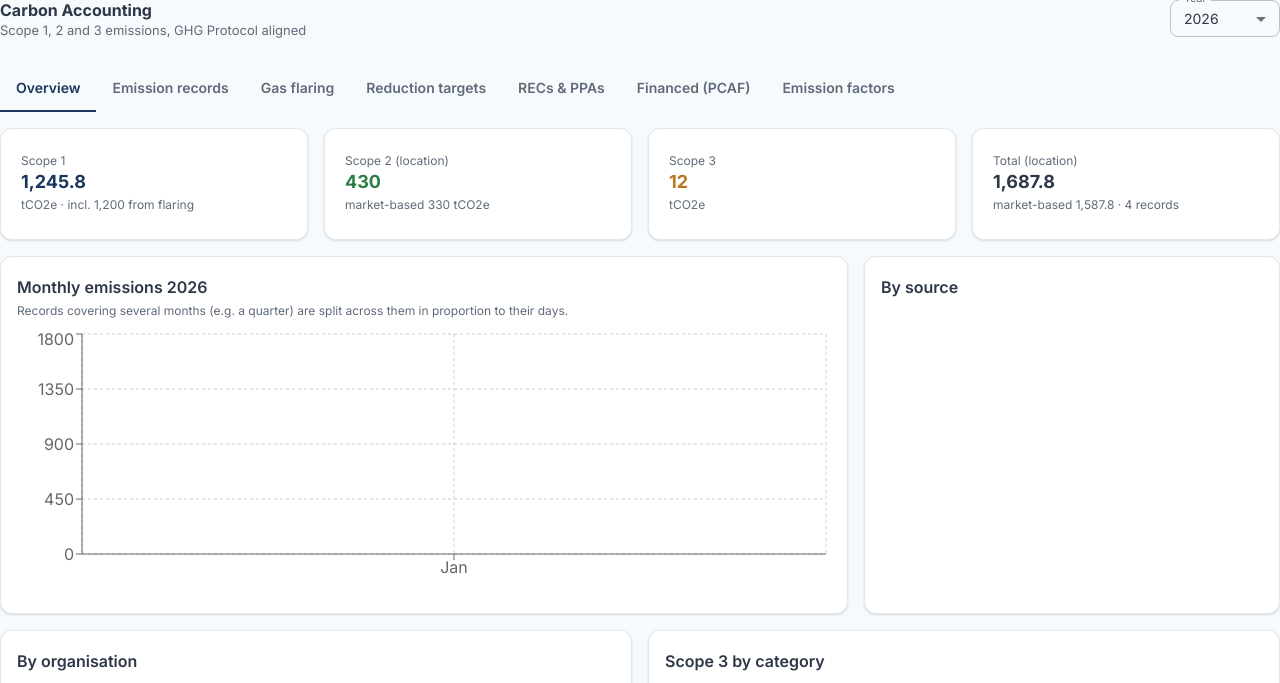
Test case: CarbonPage overview and records › lists the year's records; only calculator records can be edited, Data Hub records follow their data point
The image size is (1280, 683).
Click the tab "Emission records".
click(171, 88)  # box left=96, top=64, right=245, bottom=112
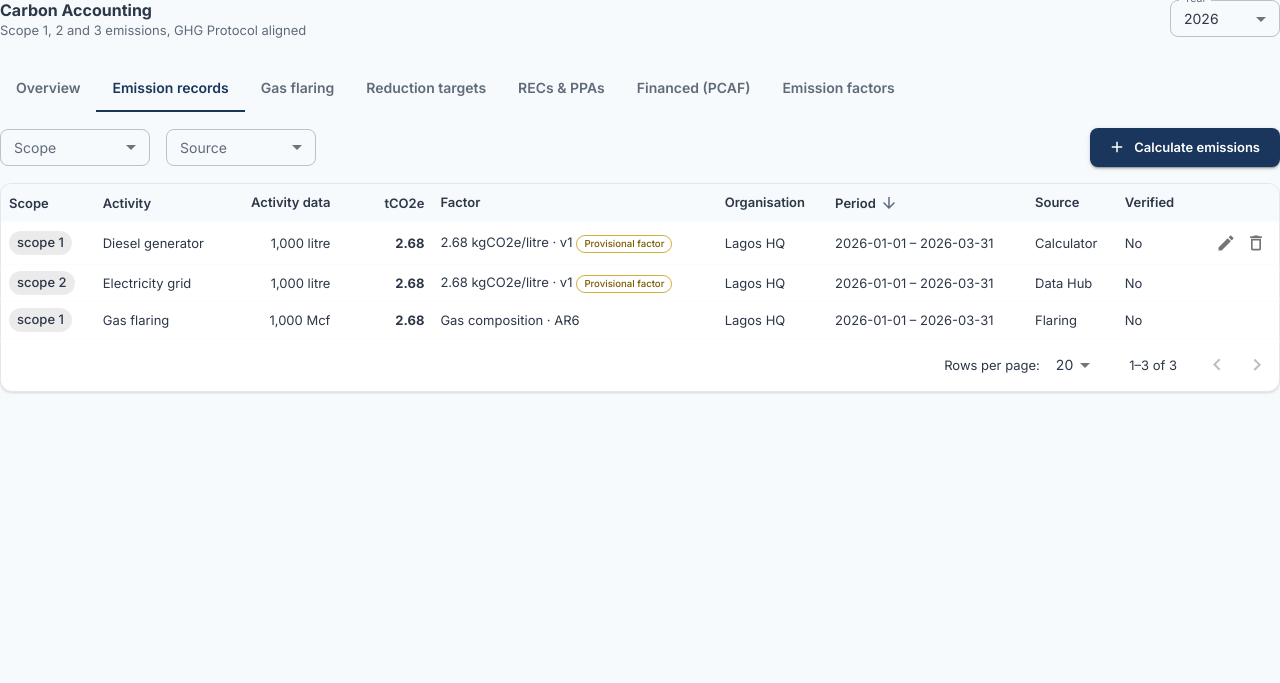
Now the text "Diesel generator" is shown, box left=95, top=222, right=229, bottom=265
Now the text "Data Hub" is shown, box left=1027, top=265, right=1117, bottom=302
Now the text "Gas composition · AR6" is shown, box left=432, top=302, right=717, bottom=339
